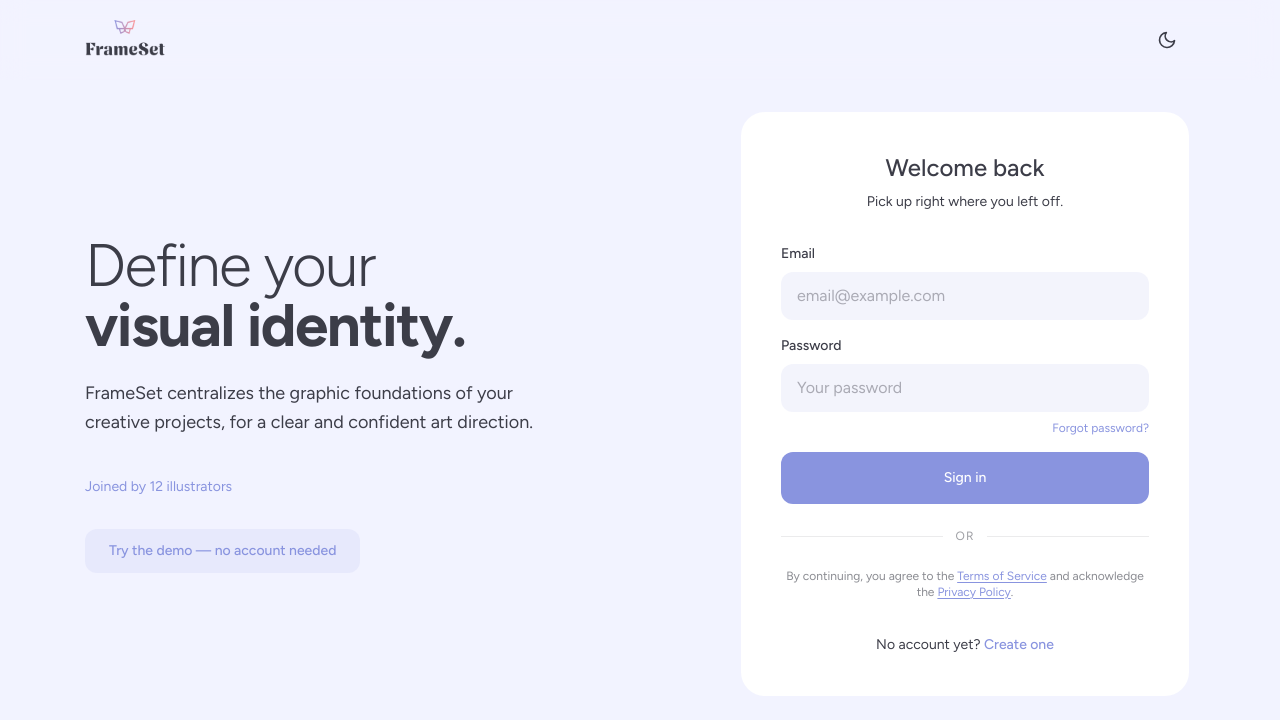
Test: Login › refuses to submit empty fields
Click the button "Sign in": click(965, 478) 781,452 -> 1149,504
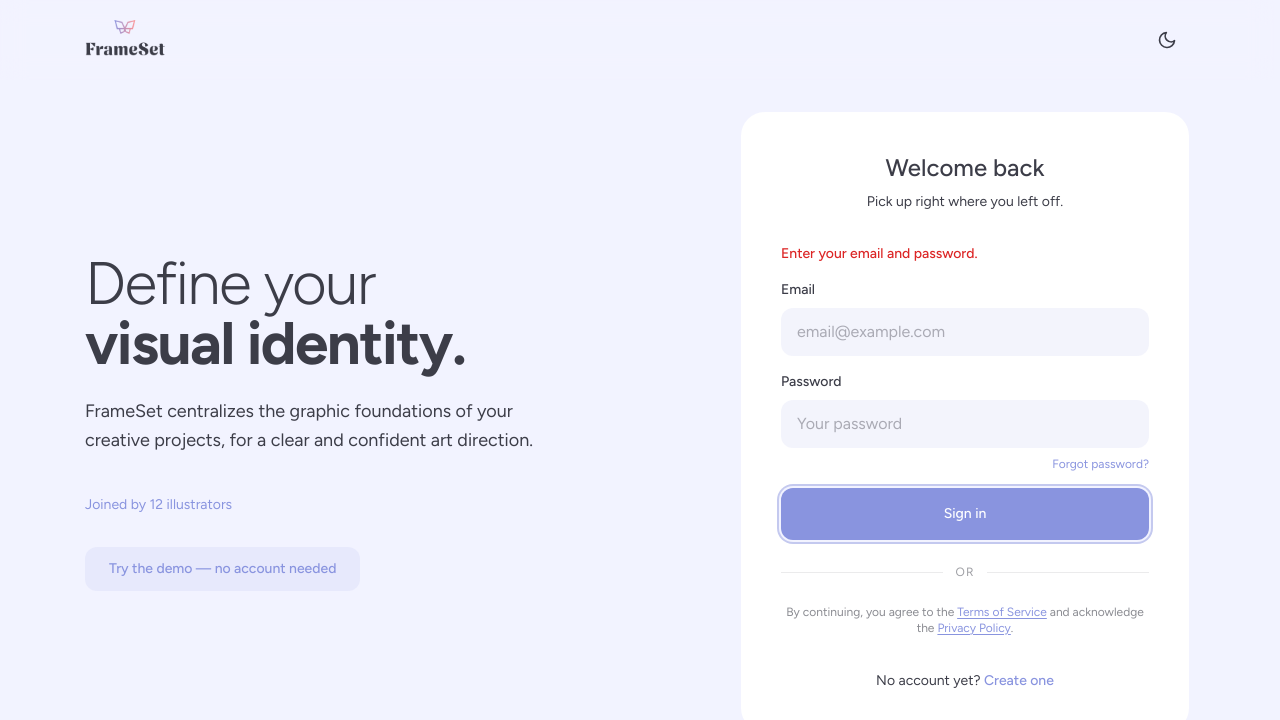
Result: the text "Enter your email and password." is shown at 781,245 -> 978,262
